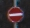No entry: (5, 5, 25, 23)
